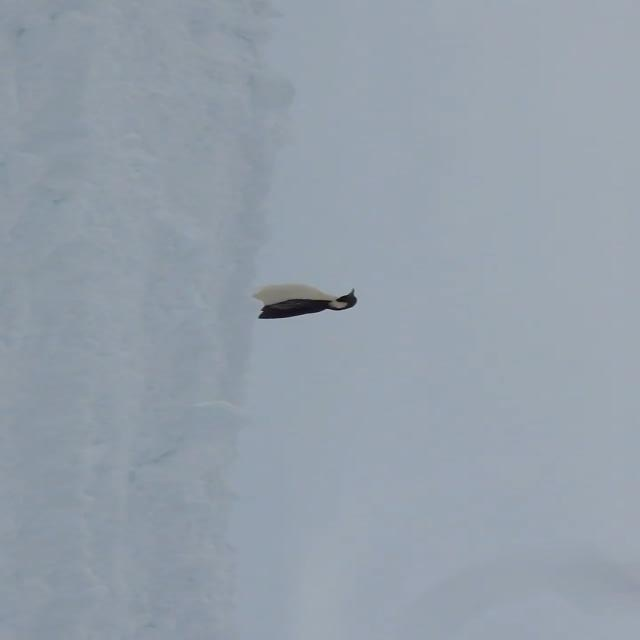penguin: (250, 284, 358, 320)
